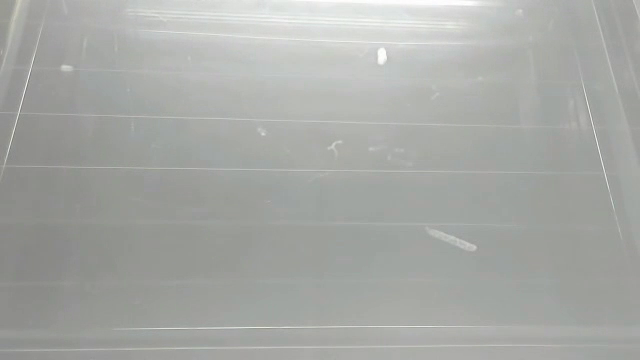alpha: (422, 222, 481, 255), (375, 46, 390, 67), (58, 62, 76, 75)
